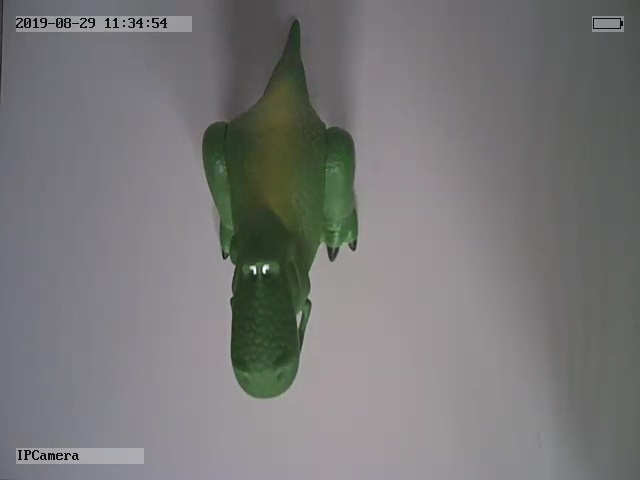rex: (198, 17, 363, 402)
